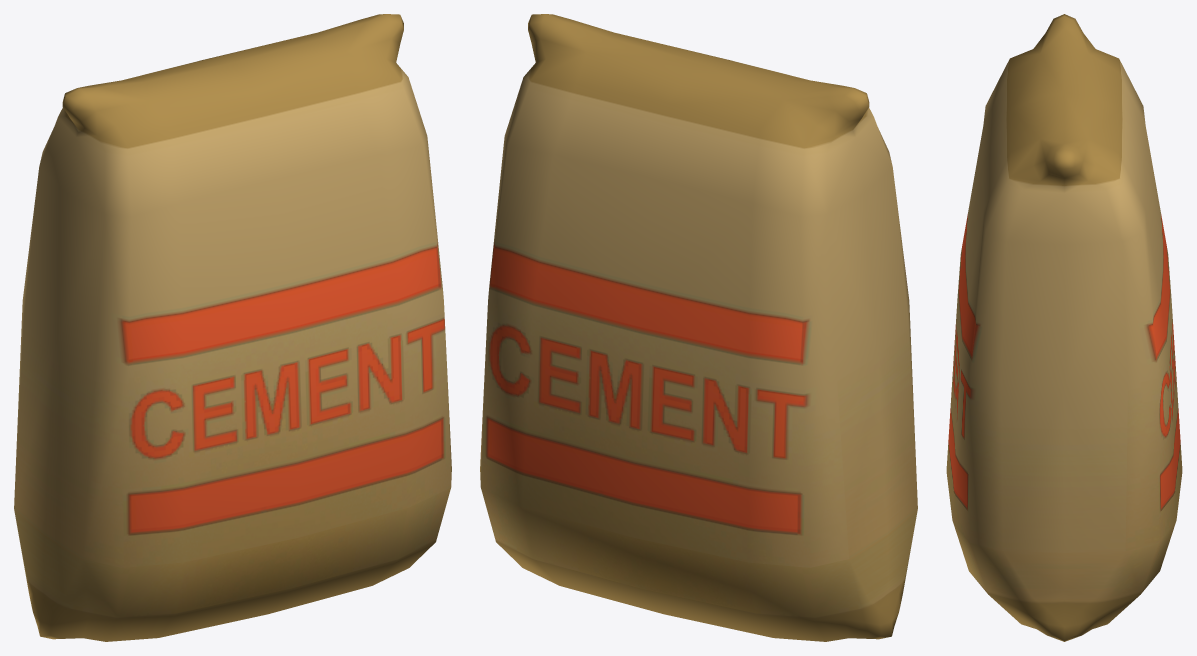
The model's file is BagOfCement.fbx.
3 renders of one model, left to right at view 1: azimuth 30°, elevation 25°; view 2: azimuth 150°, elevation 25°; view 3: azimuth 270°, elevation 25°, orthographic. The views are drawn at different scales.
Visible parts, largest first — view 1: BagOfStuff; view 2: BagOfStuff; view 3: BagOfStuff.
Boxes of the visible parts, x1,y1,x2,y2 form: BagOfStuff: [14, 14, 451, 641]; BagOfStuff: [480, 14, 917, 641]; BagOfStuff: [946, 14, 1182, 641].
Size of the model in its own units: 0.6883 by 0.9522 by 0.4158.
